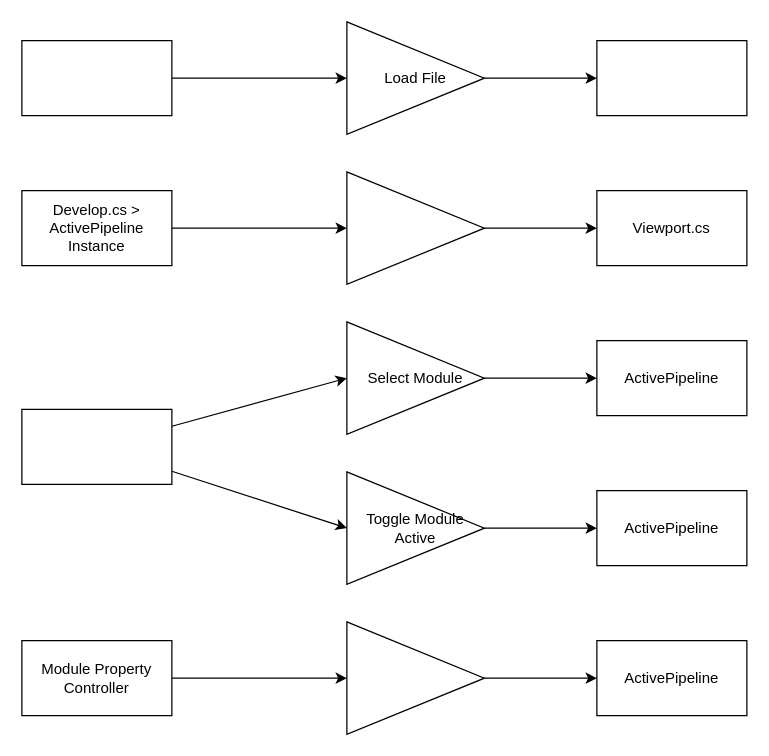
This 769x756 diagram has some shape labels left out. The centre of each missing label's shape, as x and y in pixels:
Develop.cs: point 671,77
FileOpener.cs: point 96,77
Render Image: point 415,227
TreeGrid: point 96,446
Update Module Properties: point 415,677
